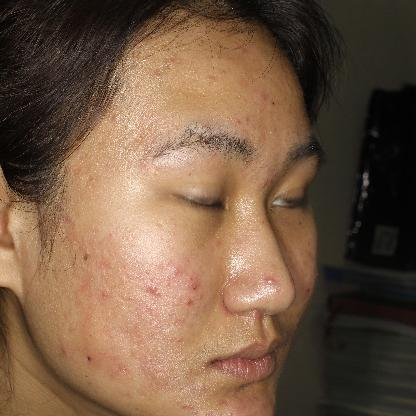Blackheads: (78, 349, 96, 368), (79, 249, 91, 261)
Papules: (144, 281, 168, 304)
pustules: (262, 269, 282, 290)
